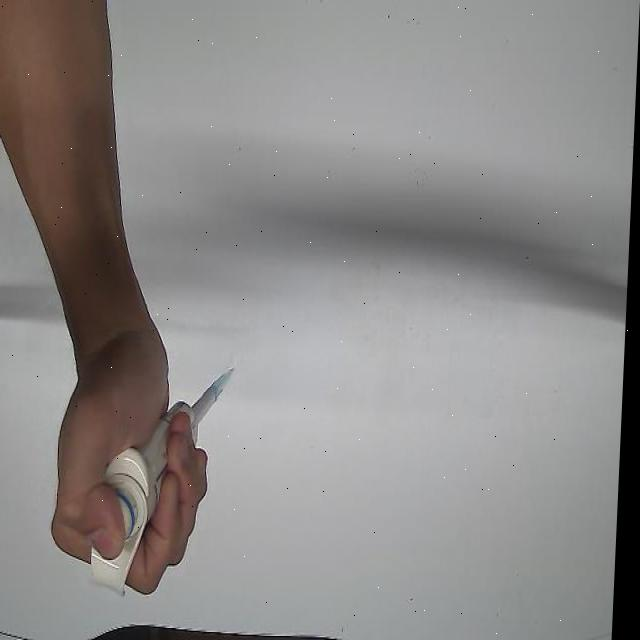Single Channel Pipettor: (94, 379, 226, 599)
